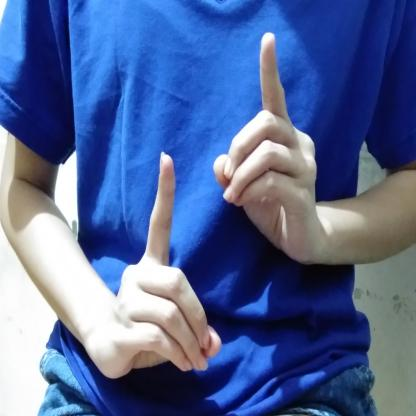morning: (99, 25, 319, 386)
